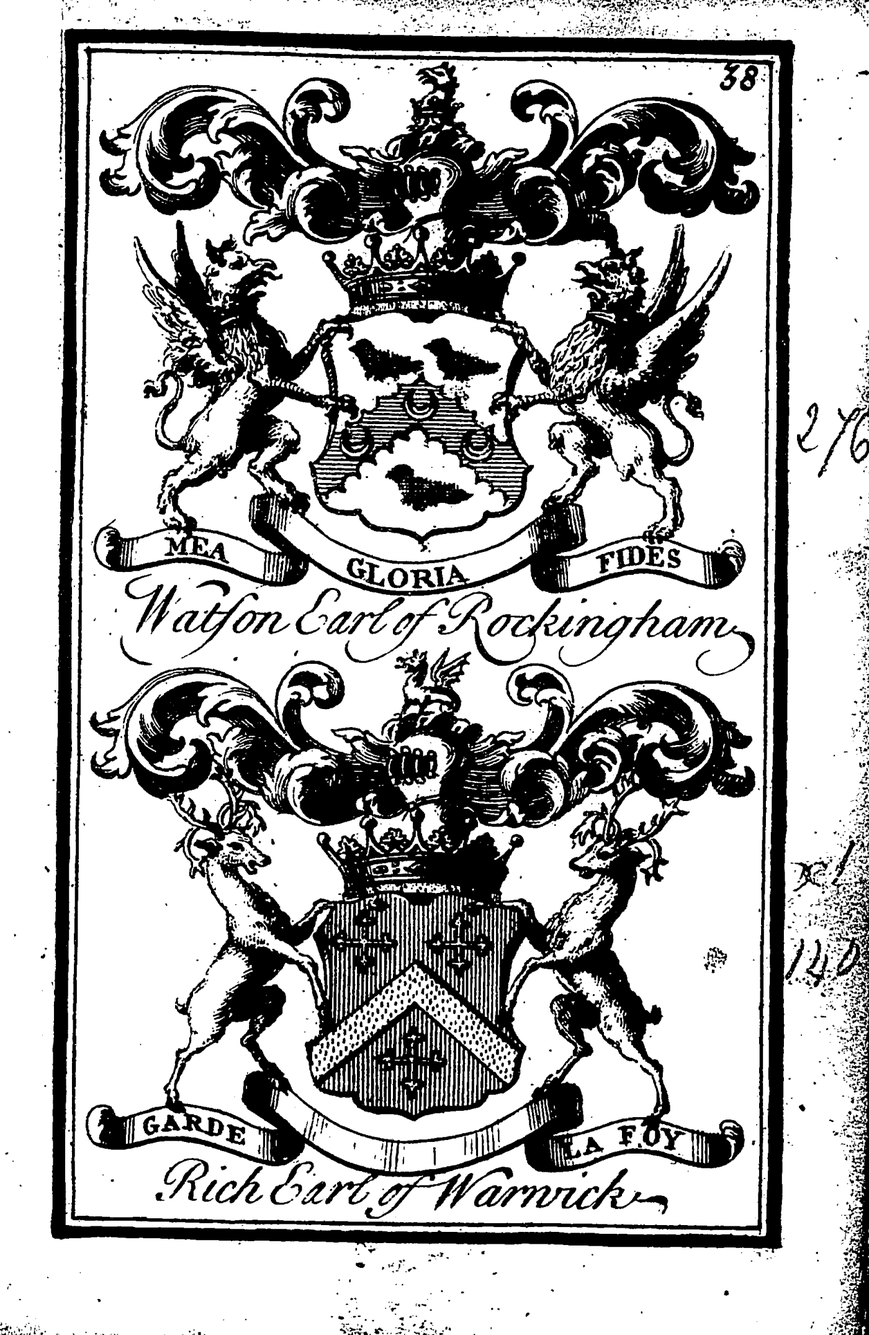coat_of_arms: (96, 61, 748, 662), (95, 659, 754, 1217)
